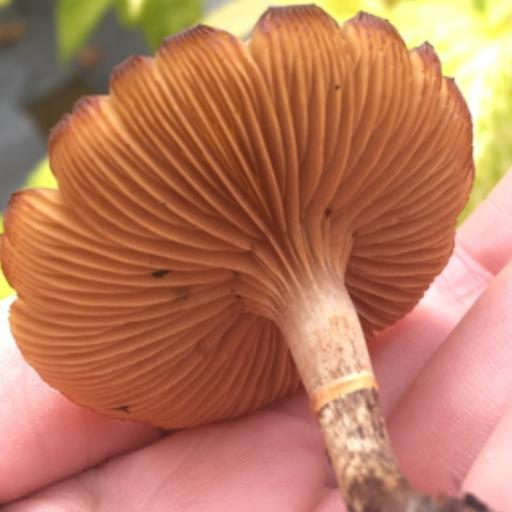mushroom: (9, 6, 475, 473)
